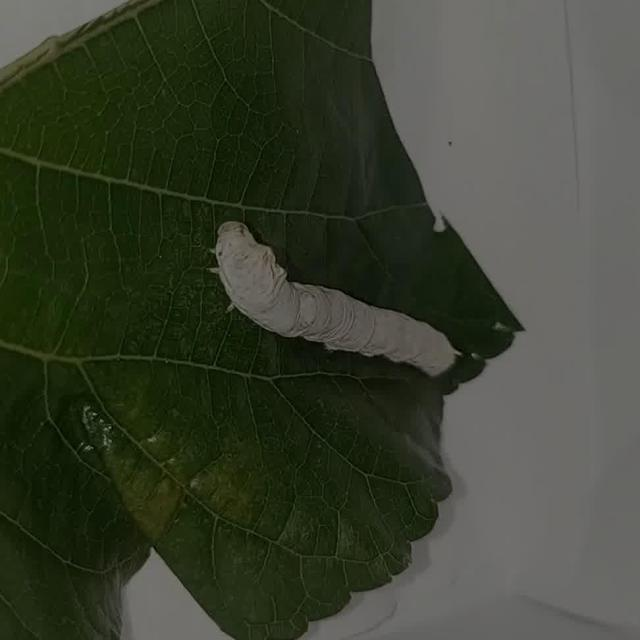Healthy: (196, 194, 466, 395)
